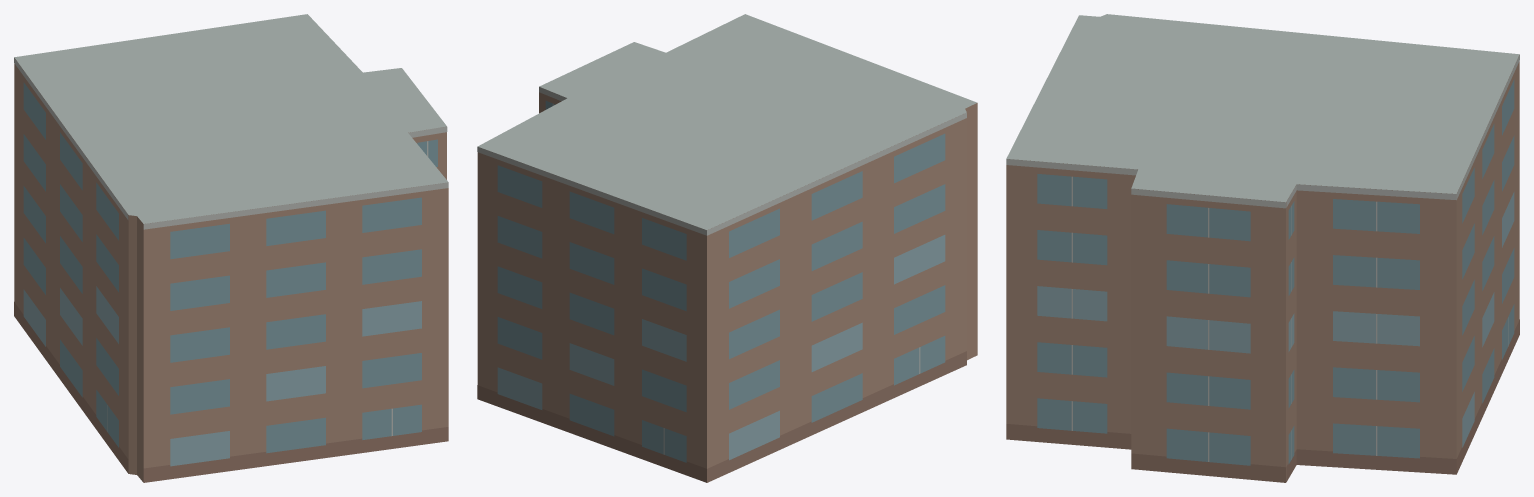
The model's file is survey-upis-32862088.glb.
3 views of the same model, side by side, from view 1: azimuth 30°, elevation 25°; view 2: azimuth 150°, elevation 25°; view 3: azimuth 270°, elevation 25° (orthographic). The views are drawn at different scales.
Parts seen in each view (by area): view 1: survey-upis-32862088.tmp; view 2: survey-upis-32862088.tmp; view 3: survey-upis-32862088.tmp.
Boxes of the visible parts, box(x1,y1,x2,y2) form: survey-upis-32862088.tmp: box(14, 14, 448, 482); survey-upis-32862088.tmp: box(477, 14, 977, 482); survey-upis-32862088.tmp: box(1006, 14, 1519, 482).
Bounding box in the file's own units: 15.98 × 11.1 × 18.42.
